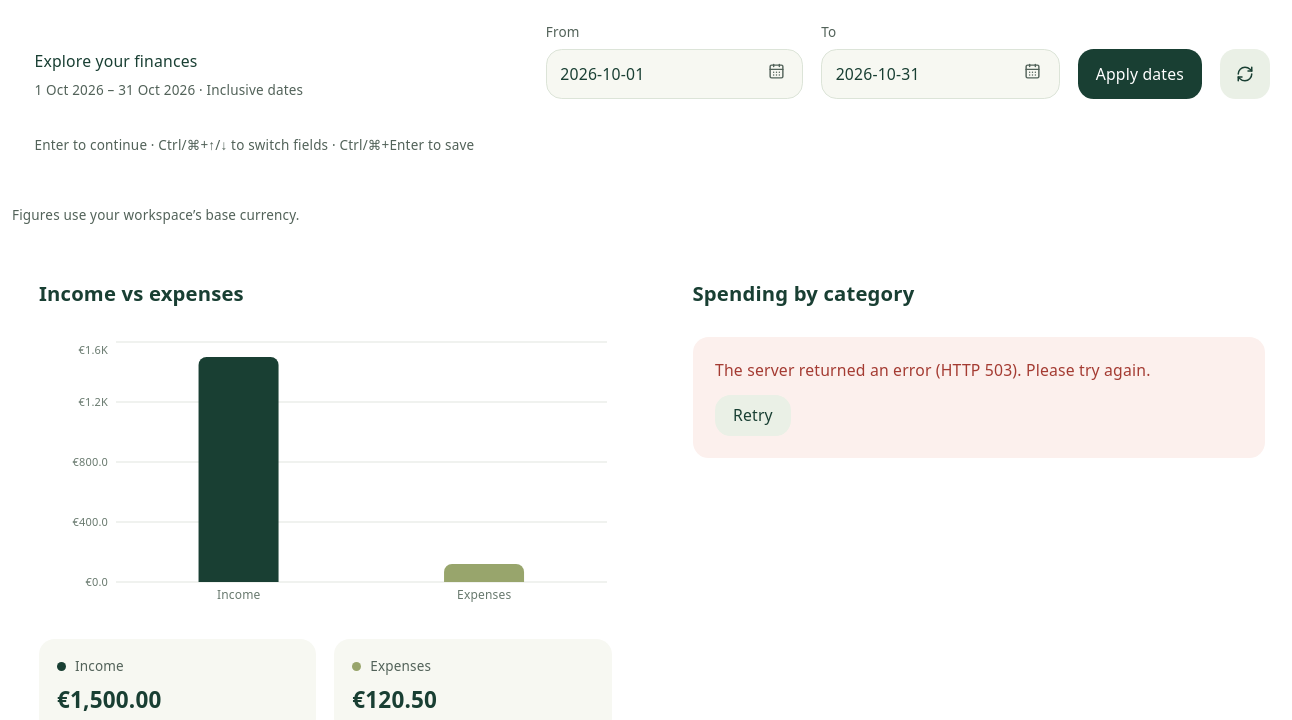
Test case: retries a failed chart independently without hiding successful charts
This screenshot has width=1292, height=720.
Expected: the message "The server returned an error (HTTP 503). Please try again." is shown, [715,359,1150,381]
Expected: the element "Income vs expenses" shows "€1,500.00", [57,684,162,715]
What coordinates should you click on to do the following:
click the button with aria-label "Retry spending by category"
I would click on:
 (753, 416)
Its box is [715,395,791,436].
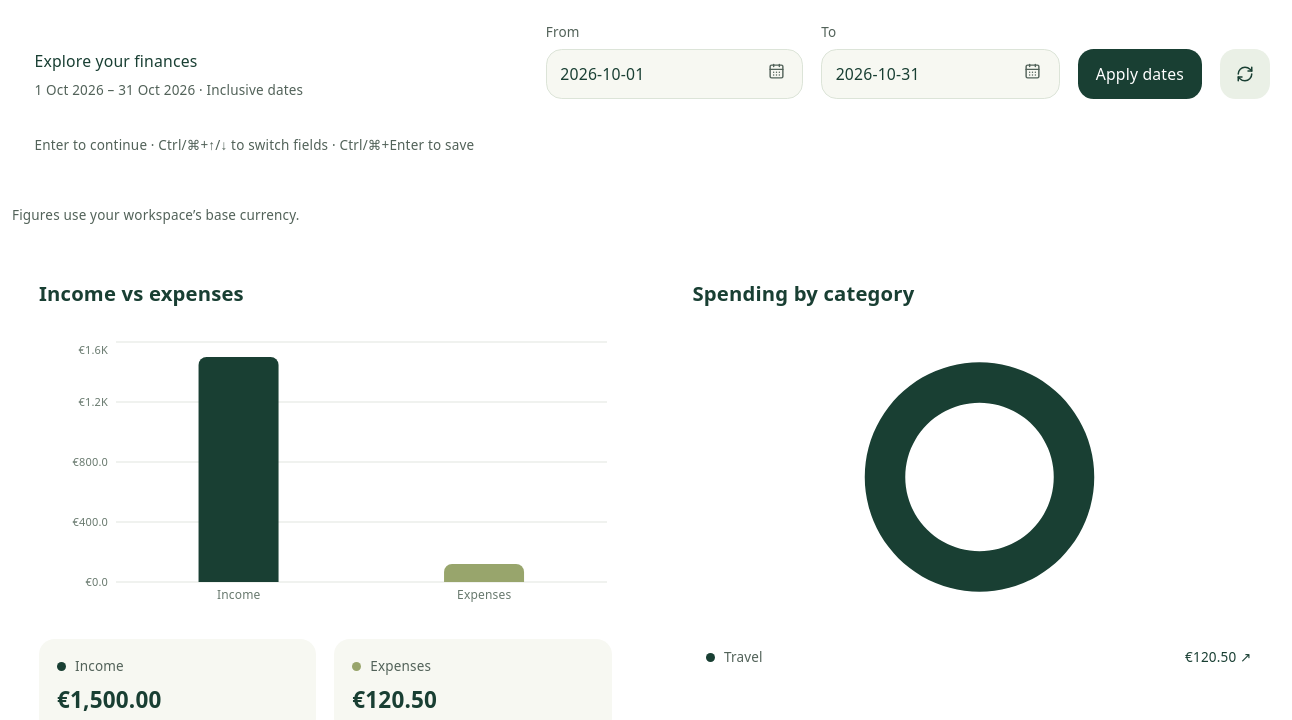
Now the text "Travel" is shown, box [706,648,763,666]
